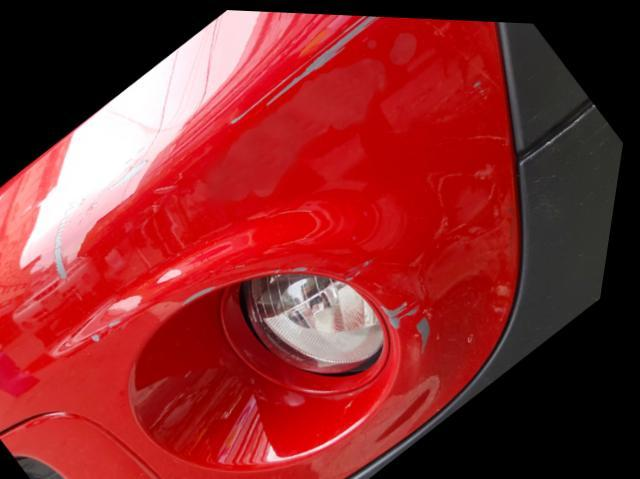scratch: (61, 12, 392, 290), (383, 297, 444, 347)
